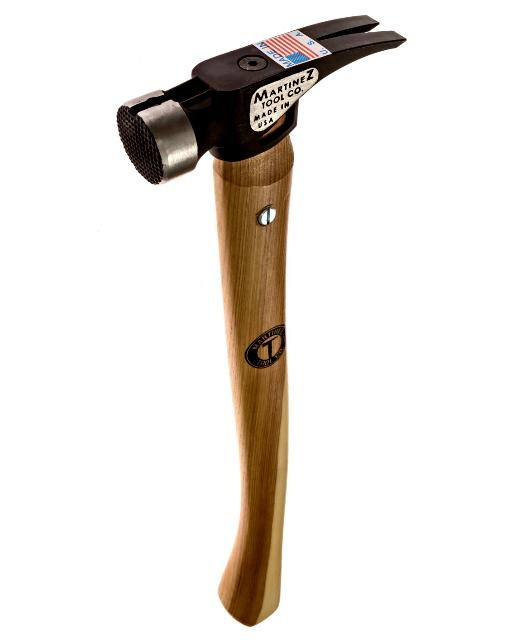hammer: (106, 9, 414, 632)
